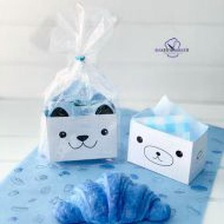snack: (23, 0, 124, 167)
